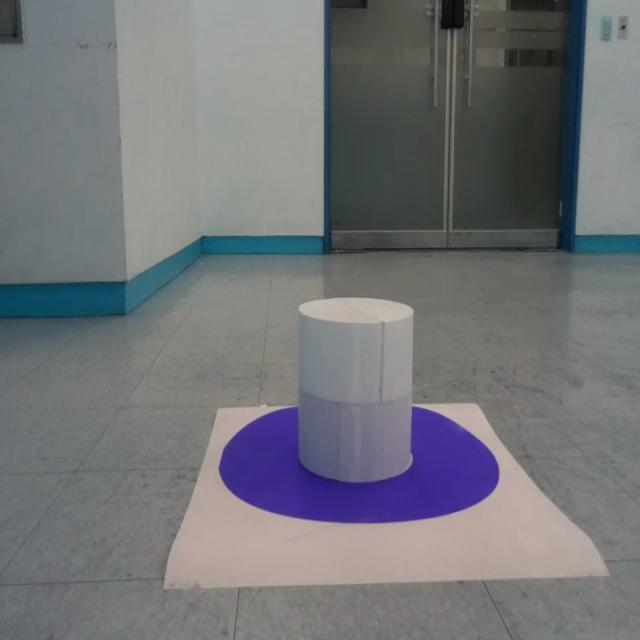cylinder: (297, 296, 415, 482)
